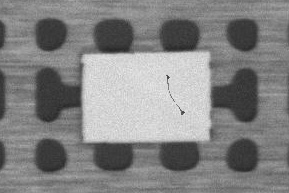DIE_INK: (241, 47, 283, 81)
